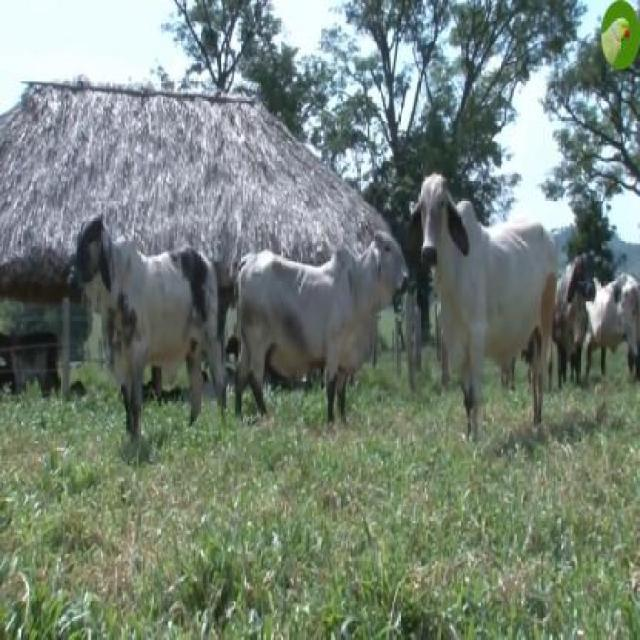Cow: (412, 177, 558, 438)
